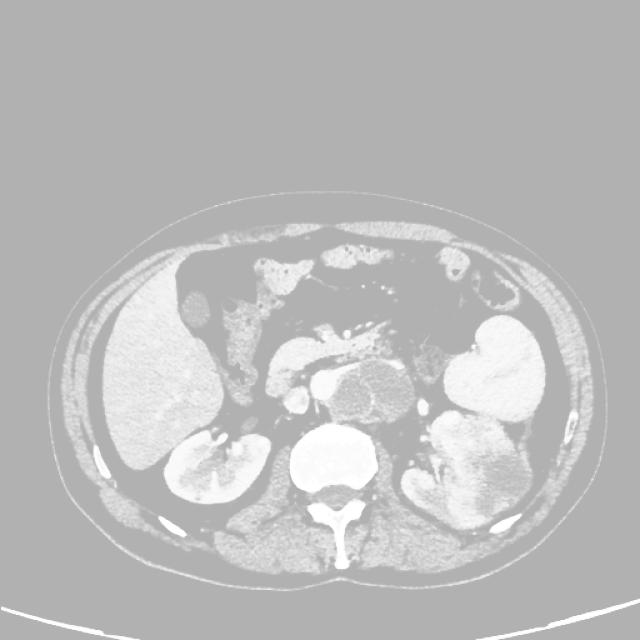TUMOR: (163, 255, 573, 419)
